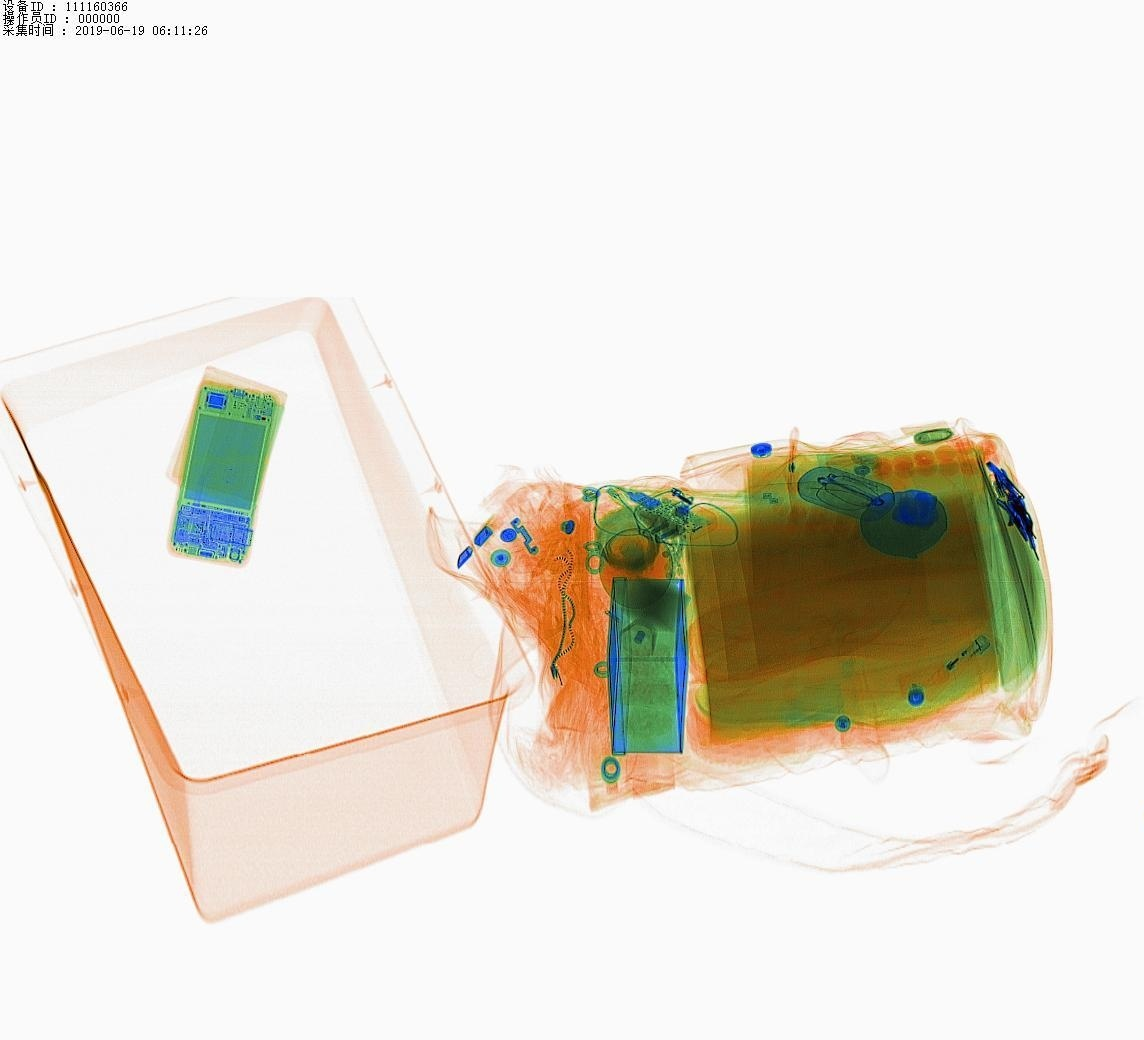NonmetallicFire: (893, 606, 1010, 724)
